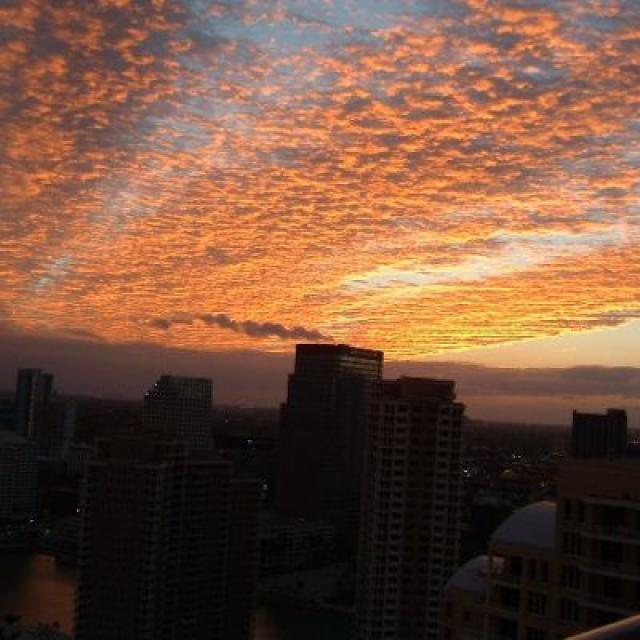Ac: (4, 1, 640, 349)
